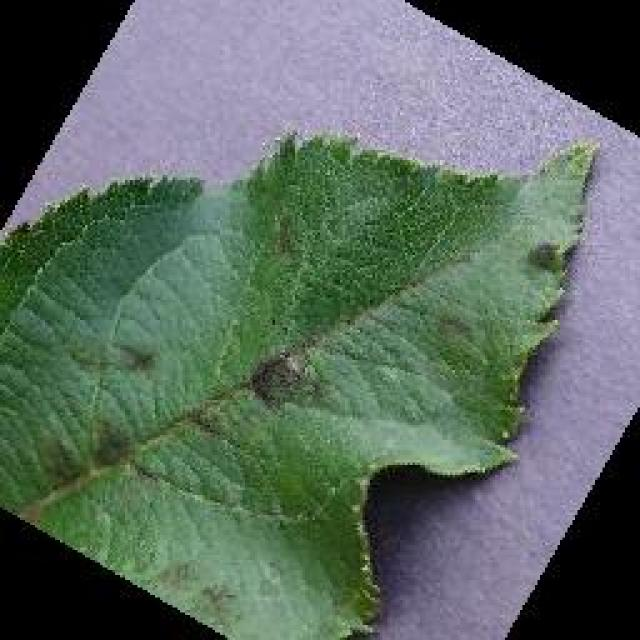apple scab disease: (0, 124, 602, 637)
